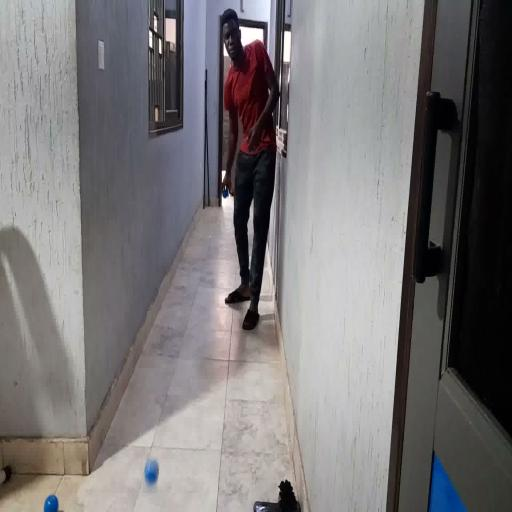plastic-ball: (143, 455, 160, 485)
